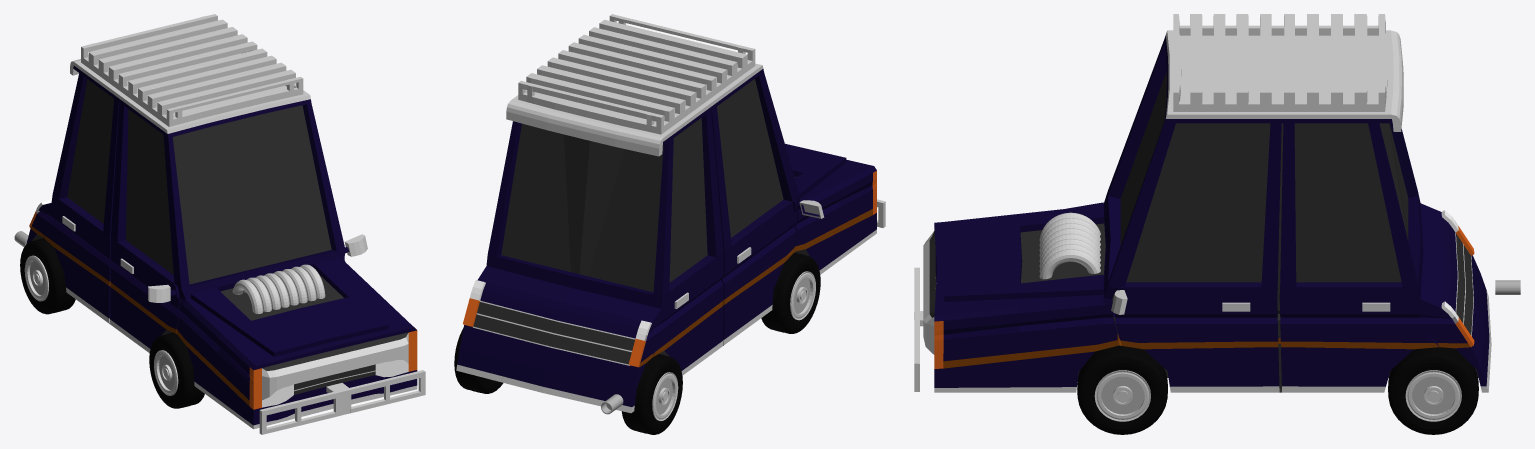
File: CR-CAR-17A.fbx
3 renders of one model, left to right at view 1: azimuth 30°, elevation 25°; view 2: azimuth 150°, elevation 25°; view 3: azimuth 270°, elevation 25°, orthographic. The views are drawn at different scales.
Parts seen in each view (by area): view 1: BODY, WHEEL.001, WHEEL.004; view 2: BODY, WHEEL.004, WHEEL.001, WHEEL.002; view 3: BODY, WHEEL.003, WHEEL.002.
Boxes of the visible parts, <box> form: BODY: <box>26,14,425,434</box>; WHEEL.001: <box>149,332,204,408</box>; WHEEL.004: <box>20,238,75,314</box>; BODY: <box>456,14,885,413</box>; WHEEL.004: <box>621,354,682,434</box>; WHEEL.001: <box>761,252,820,333</box>; WHEEL.002: <box>454,328,503,393</box>; BODY: <box>914,14,1491,392</box>; WHEEL.003: <box>1077,345,1167,434</box>; WHEEL.002: <box>1388,347,1478,434</box>.
Bounding box in the file's own units: 131 × 157 × 261.
